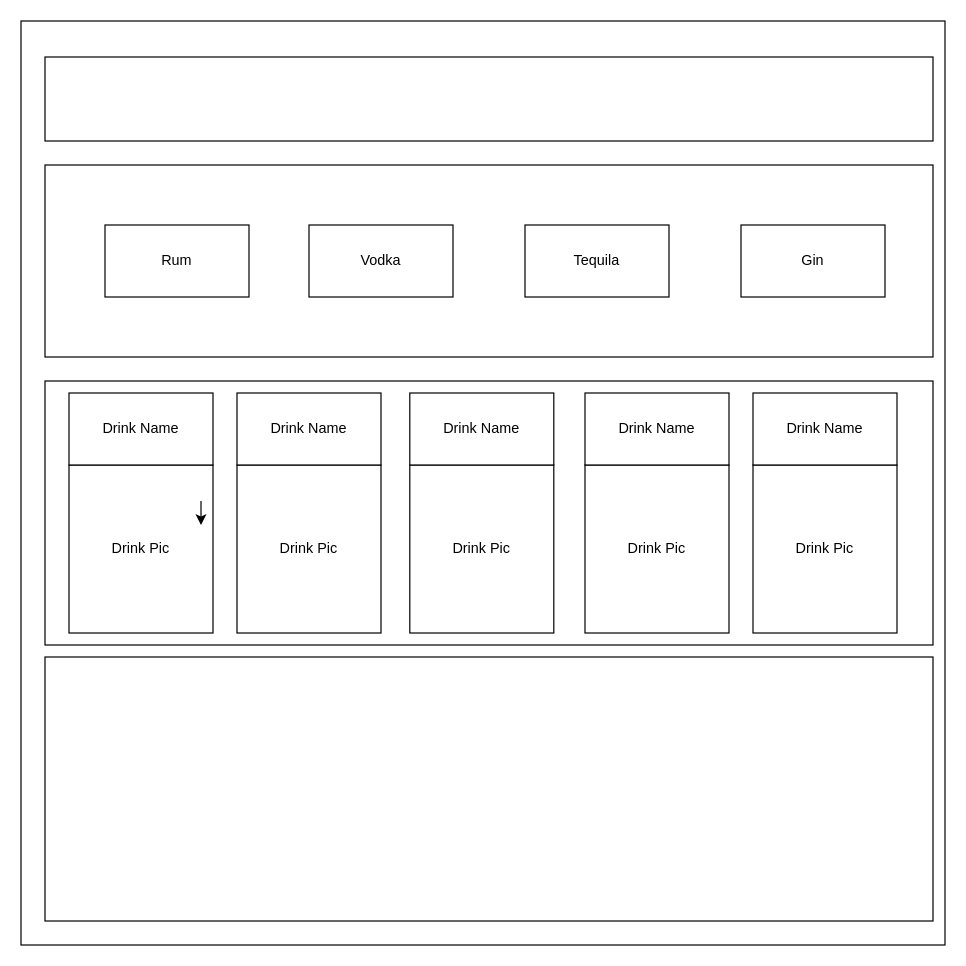
Image size: 966x966. Some labels were removed from this diagram. The box of each missing label's shape, as (x1, y1, x2, y2) in pixels:
Ambitious Alcoholics: (44, 56, 933, 141)
Wikipedia Article Data: (44, 656, 933, 921)
